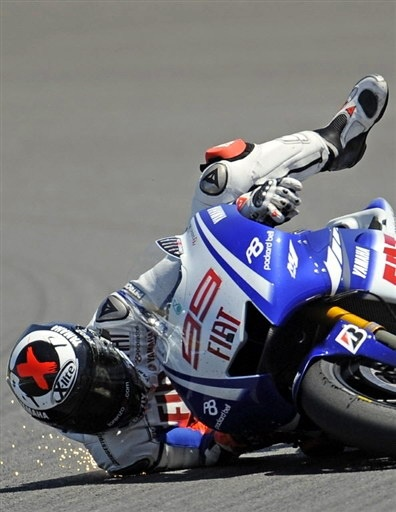falling: (7, 55, 388, 459)
